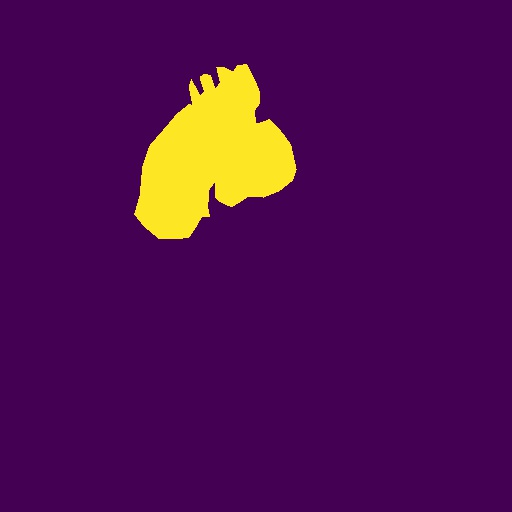Gliomia_tumour: (134, 64, 297, 239)
